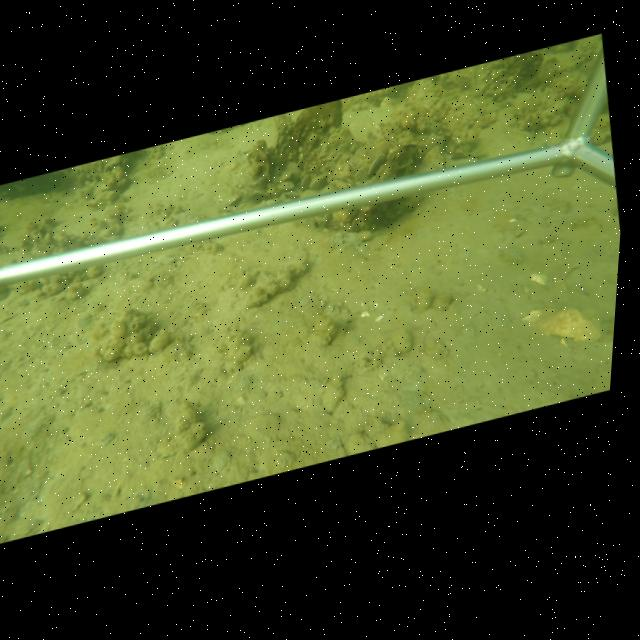Oyster-Closed: (392, 143, 418, 168), (367, 154, 380, 177), (276, 181, 295, 192)
Oyster-Indeterminate: (308, 175, 328, 189)
